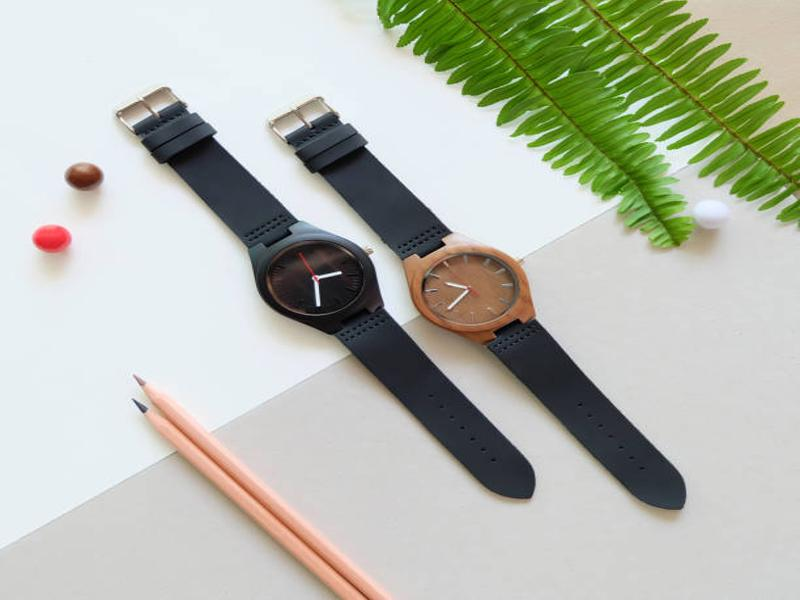watch: (268, 90, 689, 513), (114, 85, 536, 500)
